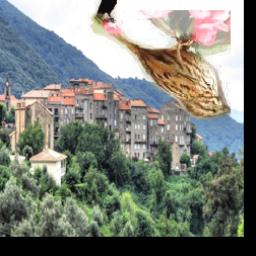Crow: (94, 0, 117, 23)
Sparrow: (88, 10, 232, 121)
